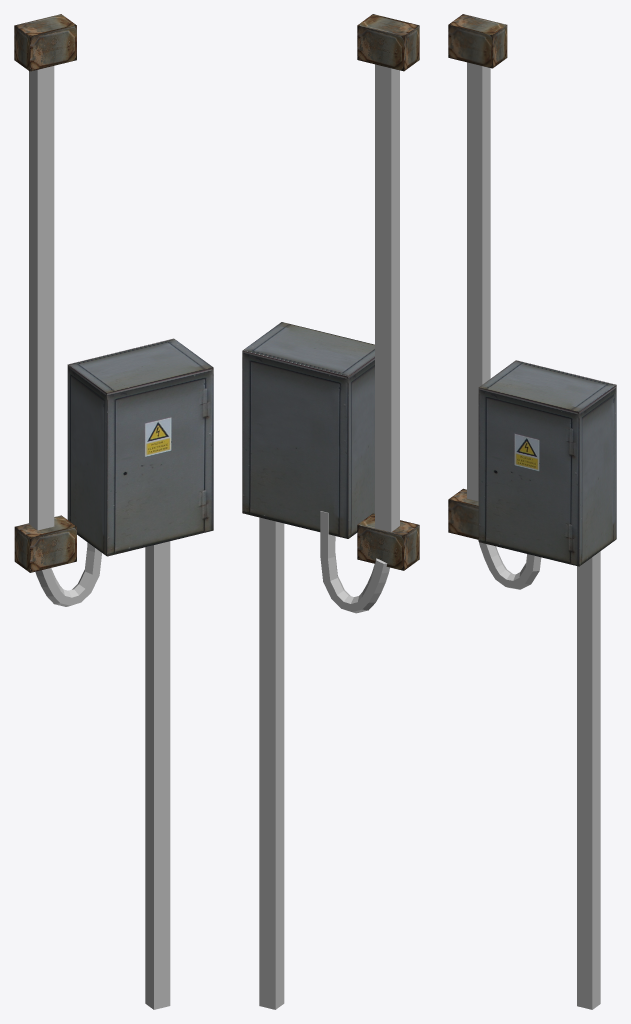
The model's file is powerbox2ms3d.fbx.
3 views of the same model, side by side, from view 1: azimuth 30°, elevation 25°; view 2: azimuth 150°, elevation 25°; view 3: azimuth 330°, elevation 25° (orthographic). The views are drawn at different scales.
Parts seen in each view (by area): view 1: pb2front0, Boxa0, Duplicatea0, pb2side0, Duplicate0, Box0, Cylinder0; view 2: pb2side0, Boxa0, Duplicatea0, Duplicate0, Box0, Cylinder0; view 3: pb2front0, Boxa0, pb2side0, Duplicatea0, Duplicate0, Cylinder0, Box0.
Part boxes in pixels (x1=…): pb2front0: x1=107, y1=367, x2=213, y2=556; Boxa0: x1=145, y1=541, x2=170, y2=1009; Duplicatea0: x1=29, y1=66, x2=54, y2=530; pb2side0: x1=67, y1=338, x2=212, y2=555; Duplicate0: x1=14, y1=14, x2=76, y2=71; Box0: x1=14, y1=515, x2=76, y2=572; Cylinder0: x1=35, y1=542, x2=101, y2=606; pb2side0: x1=242, y1=322, x2=374, y2=538; Boxa0: x1=259, y1=517, x2=284, y2=1009; Duplicatea0: x1=375, y1=64, x2=399, y2=532; Duplicate0: x1=357, y1=14, x2=419, y2=71; Box0: x1=357, y1=513, x2=419, y2=570; Cylinder0: x1=320, y1=511, x2=389, y2=613; pb2front0: x1=478, y1=388, x2=579, y2=566; Boxa0: x1=577, y1=551, x2=600, y2=1009; pb2side0: x1=479, y1=360, x2=616, y2=566; Duplicatea0: x1=467, y1=62, x2=490, y2=501; Duplicate0: x1=448, y1=14, x2=507, y2=68; Cylinder0: x1=478, y1=540, x2=541, y2=589; Box0: x1=448, y1=488, x2=478, y2=539.
Size of the model in its own units: 0.8985 by 5.38 by 0.3862.
